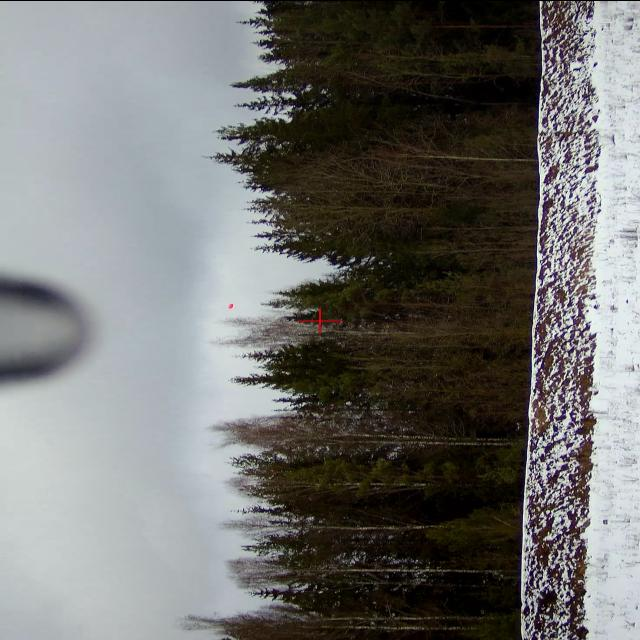entire: (214, 296, 242, 312)
